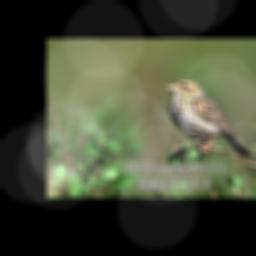Sparrow: (165, 78, 256, 164)
